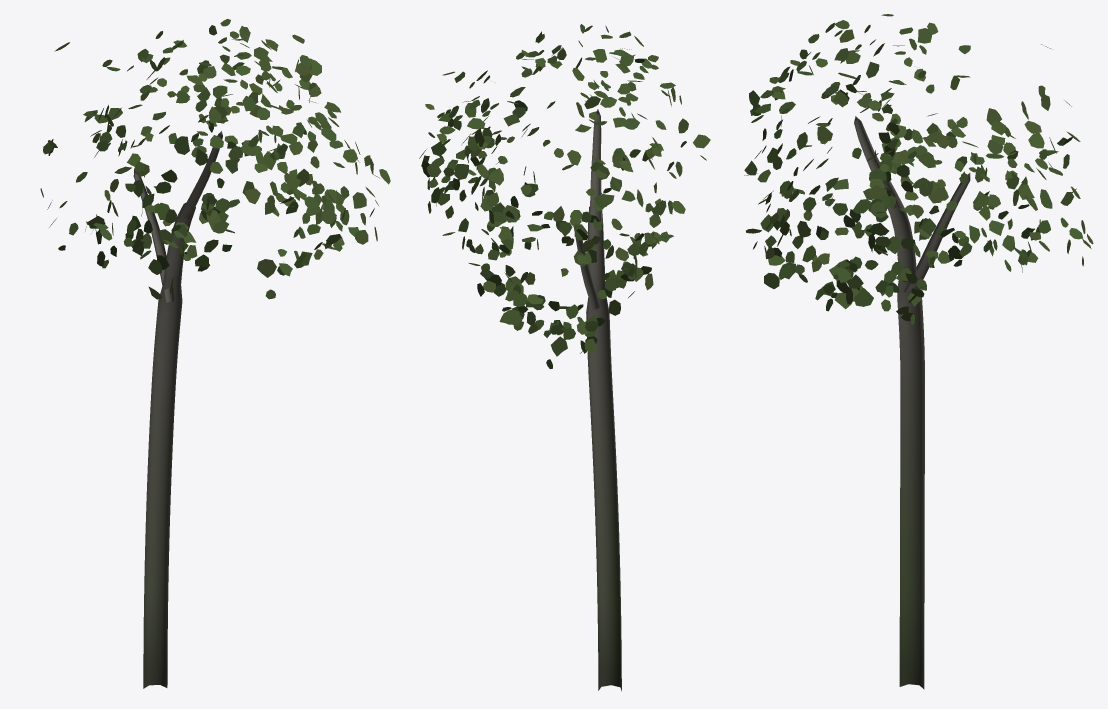
The model's file is SM_TreeFar_rowan_0.glb.
3 views of the same model, side by side, from view 1: azimuth 30°, elevation 25°; view 2: azimuth 150°, elevation 25°; view 3: azimuth 270°, elevation 25° (orthographic). The views are drawn at different scales.
Visible parts, largest first — view 1: SM_TreeFar_rowan_0; view 2: SM_TreeFar_rowan_0; view 3: SM_TreeFar_rowan_0.
Part boxes in pixels (bbox=[...]): SM_TreeFar_rowan_0: bbox=[40, 19, 390, 688]; SM_TreeFar_rowan_0: bbox=[419, 24, 710, 691]; SM_TreeFar_rowan_0: bbox=[744, 14, 1093, 689].
Bounding box in the file's own units: 3.44 × 8.5 × 3.94.
